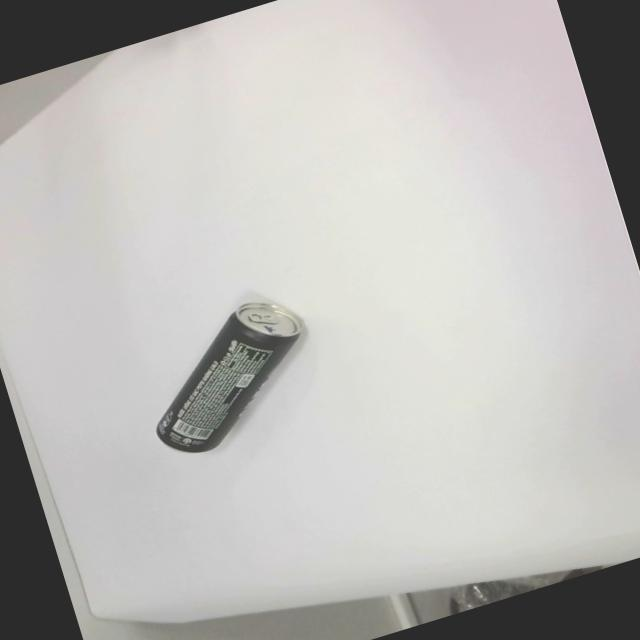debris: (126, 287, 330, 462)
